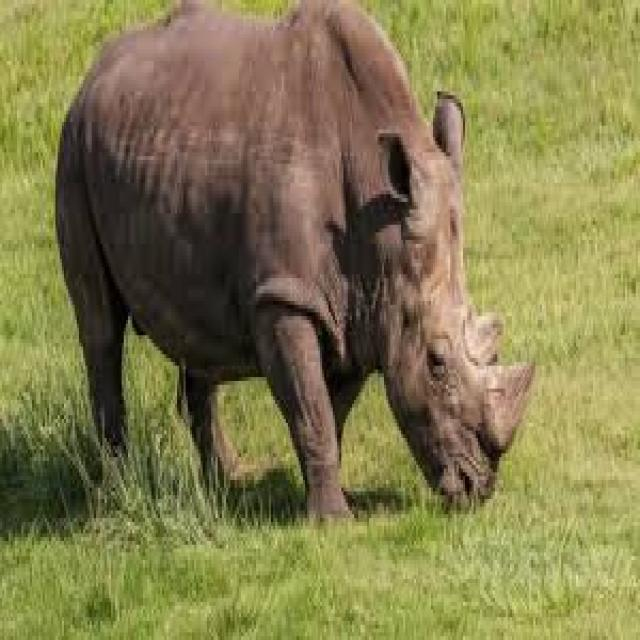rhinoceros: (58, 0, 533, 514)
